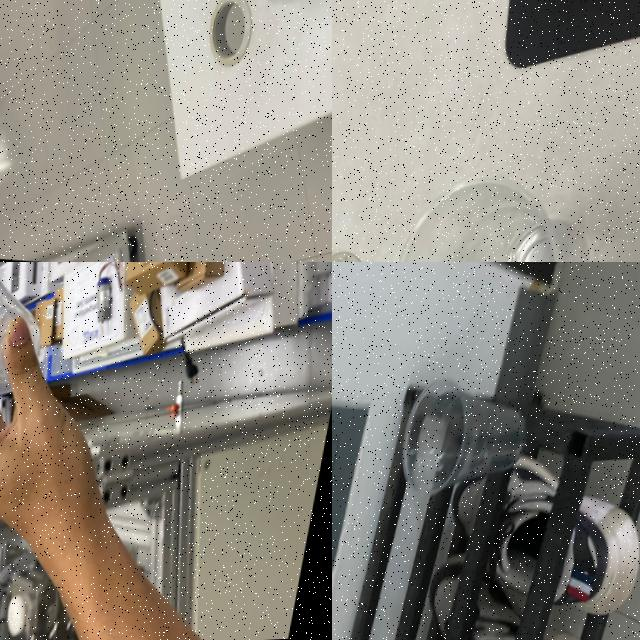glass: (362, 146, 616, 262), (392, 366, 549, 517), (0, 262, 69, 431)
